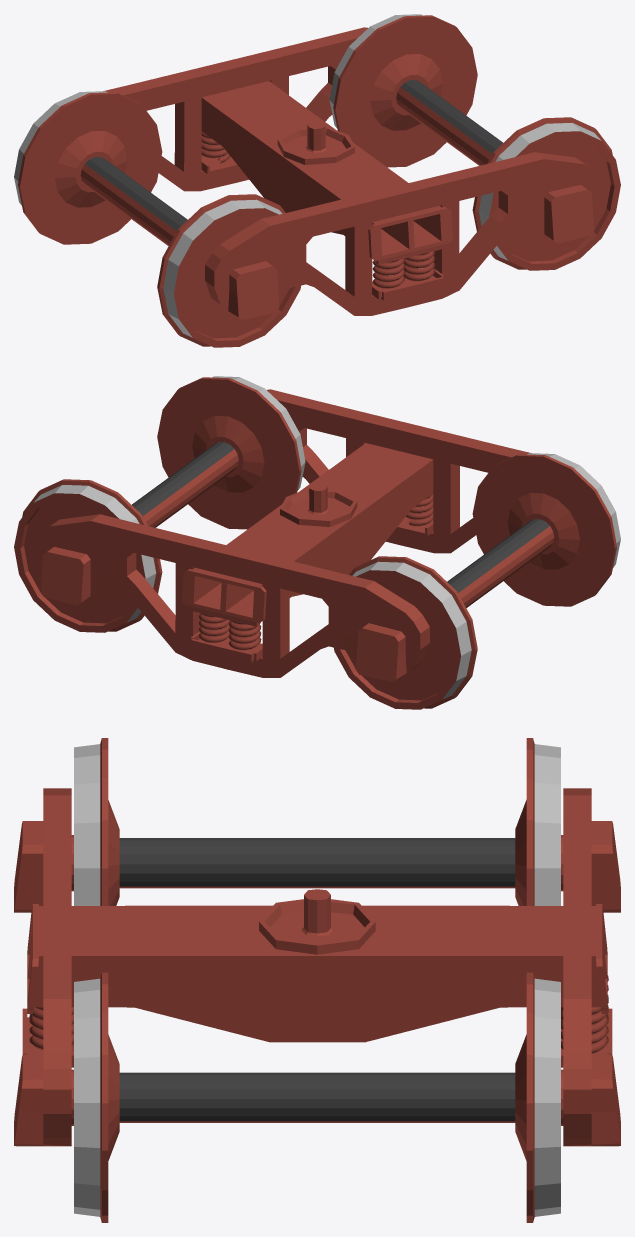
Rendered from train_truck.glb.
3 renders of one model, top to bottom at view 1: azimuth 30°, elevation 25°; view 2: azimuth 150°, elevation 25°; view 3: azimuth 270°, elevation 25°, orthographic. The views are drawn at different scales.
Visible parts, largest first — view 1: Cube.001, Cylinder.001, Cylinder, Span, Cube.003, Circle, Circle.003, Circle.002; view 2: Cube.003, Cylinder.001, Cylinder, Span, Cube.001, Circle.002, Circle.001, Circle; view 3: Span, Cylinder, Cylinder.001, Cube.001, Cube.003, Circle.001, Circle.003.
Boxes of the visible parts, x1,y1,x2,y2 form: Cube.001: (205, 152, 599, 319); Cylinder.001: (14, 91, 300, 347); Cylinder: (329, 14, 620, 270); Span: (201, 81, 452, 264); Cube.003: (103, 27, 367, 191); Circle: (372, 258, 405, 288); Circle.003: (404, 251, 435, 281); Circle.002: (201, 131, 230, 163); Cube.003: (35, 514, 429, 681); Cylinder.001: (334, 453, 620, 709); Cylinder: (14, 376, 305, 632); Span: (182, 443, 433, 626); Cube.001: (267, 389, 531, 553); Circle.002: (228, 620, 261, 650); Circle.001: (198, 613, 230, 642); Circle: (406, 493, 433, 526); Span: (27, 889, 607, 1042); Cylinder: (71, 972, 563, 1222); Cylinder.001: (71, 738, 563, 905); Cube.001: (14, 788, 73, 1146); Cube.003: (561, 788, 620, 1146); Circle.001: (561, 998, 608, 1053); Circle.003: (29, 1007, 73, 1050).
Bounding box in the file's own units: 2.63 × 0.8165 × 1.98.
Materials: 2 (1 with a texture image).
